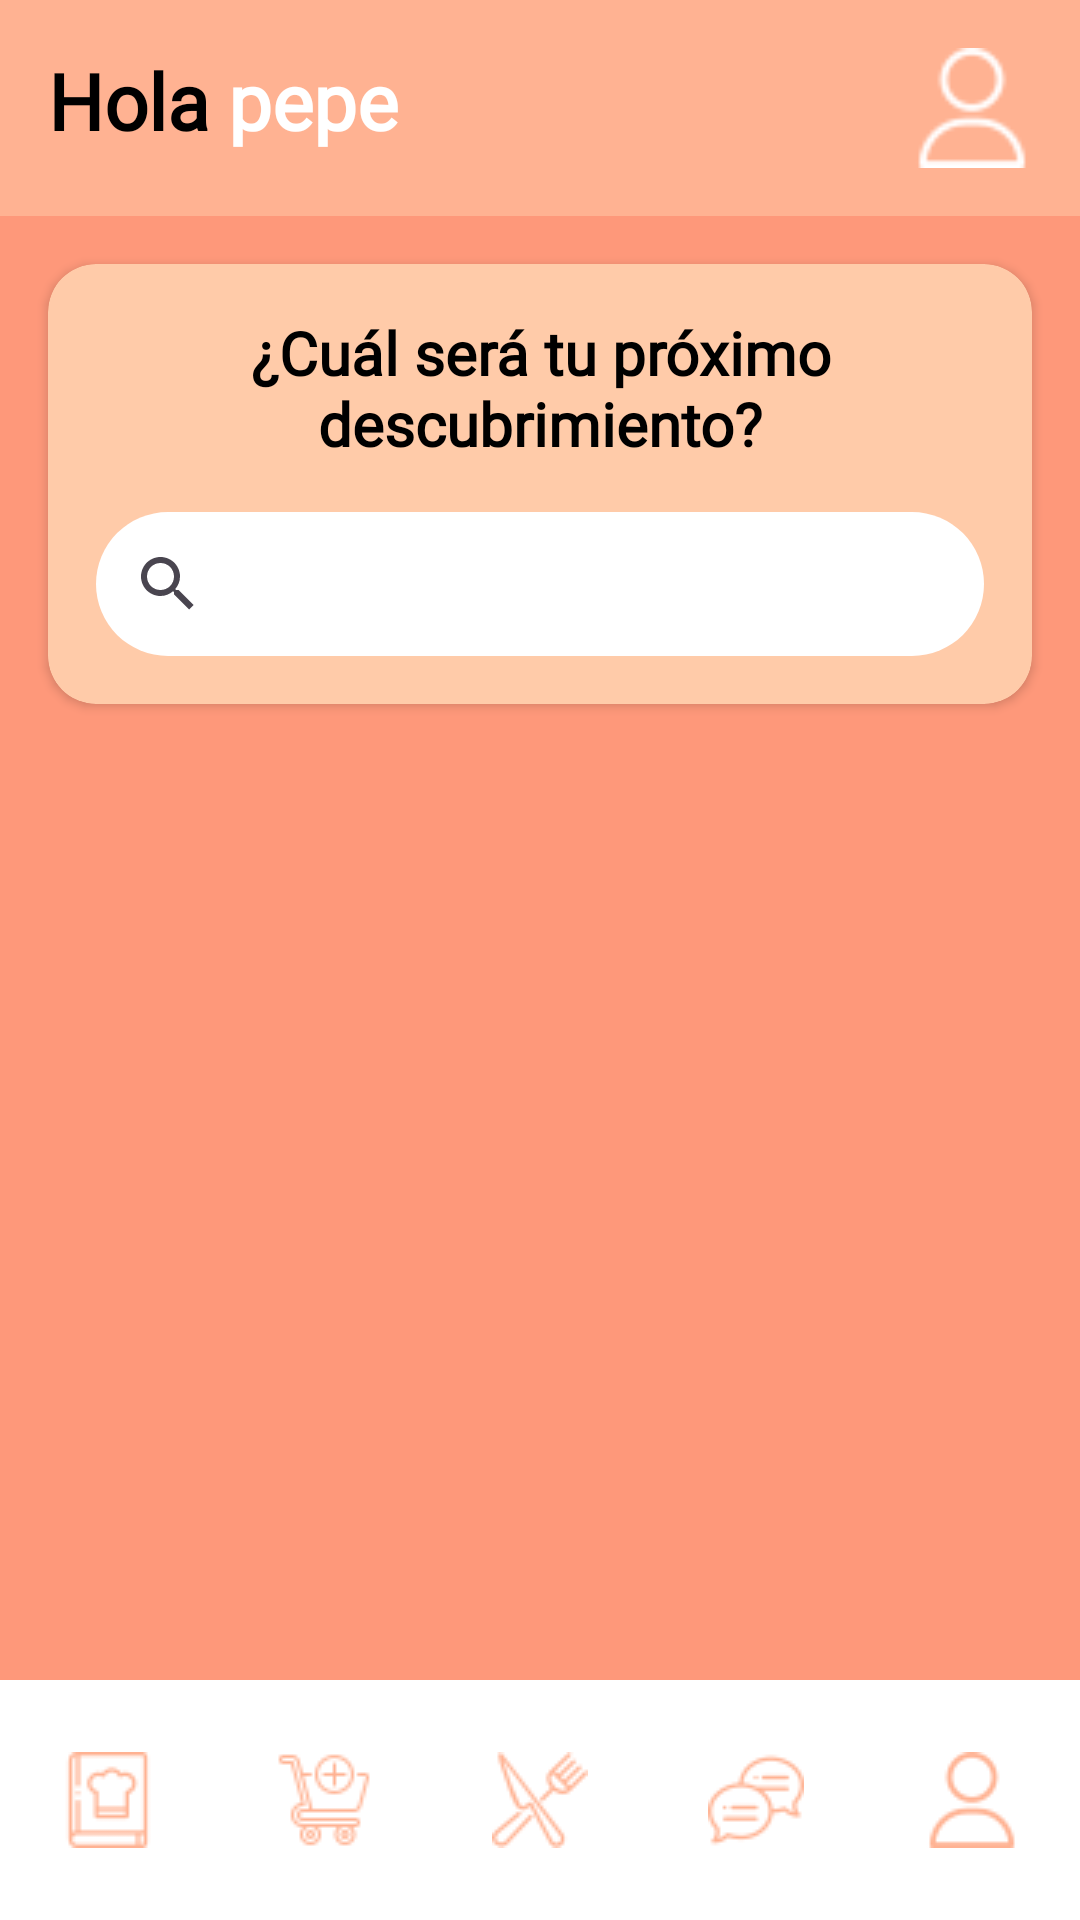

Where icons sit on this 1080x1920 app screen, as (x1, y1, x2, y2):
carrito: (278, 1754, 370, 1846)
chat: (708, 1756, 804, 1844)
cocina: (492, 1752, 588, 1848)
usuario: (918, 48, 1026, 168), (929, 1752, 1015, 1848)
